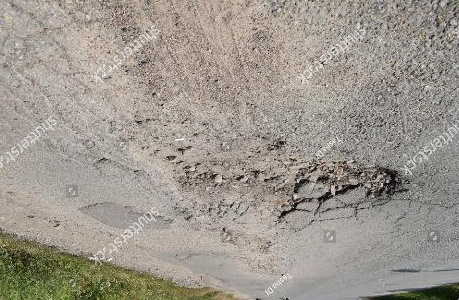pothole: (279, 158, 408, 223)
